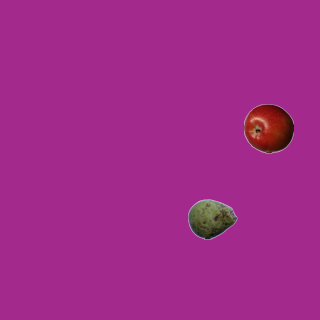Apple Braeburn: (243, 103, 293, 153)
Pear Stone: (187, 194, 237, 244)
